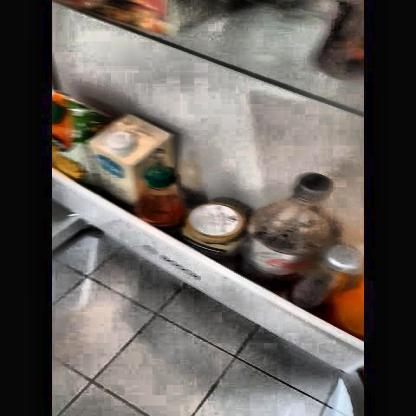milk: (92, 114, 150, 198)
